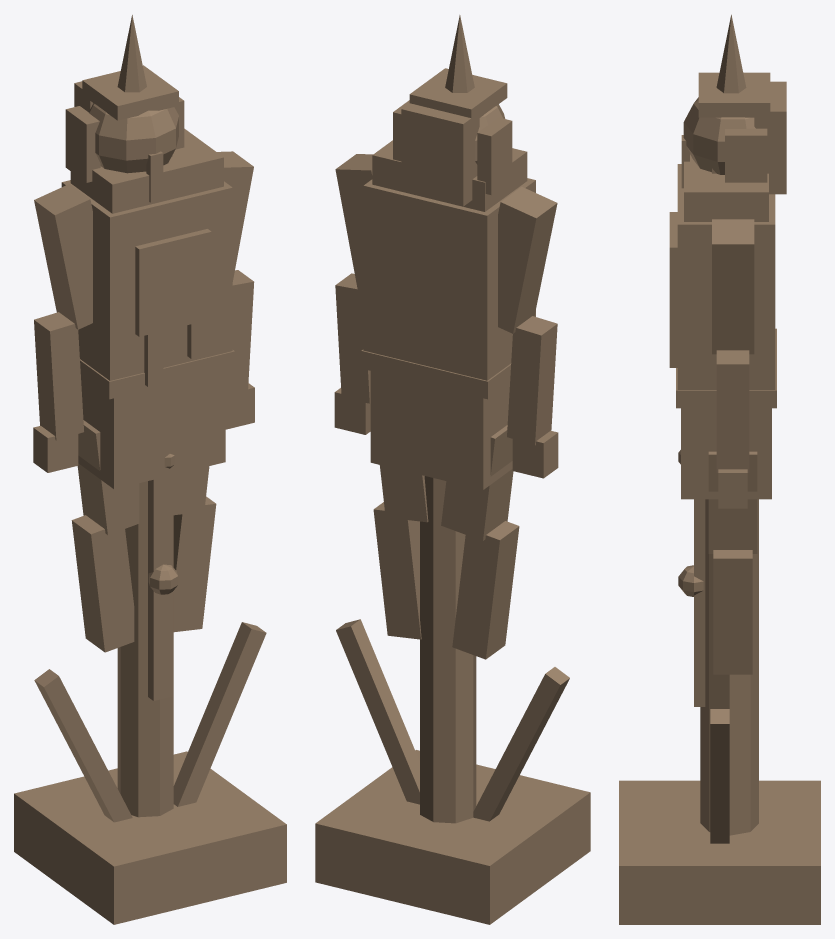
File: aldrich_impaled_stake_03.fbx
3 views of the same model, side by side, from view 1: azimuth 30°, elevation 25°; view 2: azimuth 150°, elevation 25°; view 3: azimuth 270°, elevation 25° (orthographic).
Visible parts, largest first — view 1: aldrich_impaled_stake; view 2: aldrich_impaled_stake; view 3: aldrich_impaled_stake.
Part boxes in pixels (box(x1,y1,x2,y2)): aldrich_impaled_stake: box(14, 15, 286, 924); aldrich_impaled_stake: box(315, 15, 590, 924); aldrich_impaled_stake: box(619, 14, 820, 924).
Size of the model in its own units: 0.7985 by 2.92 by 0.62.
